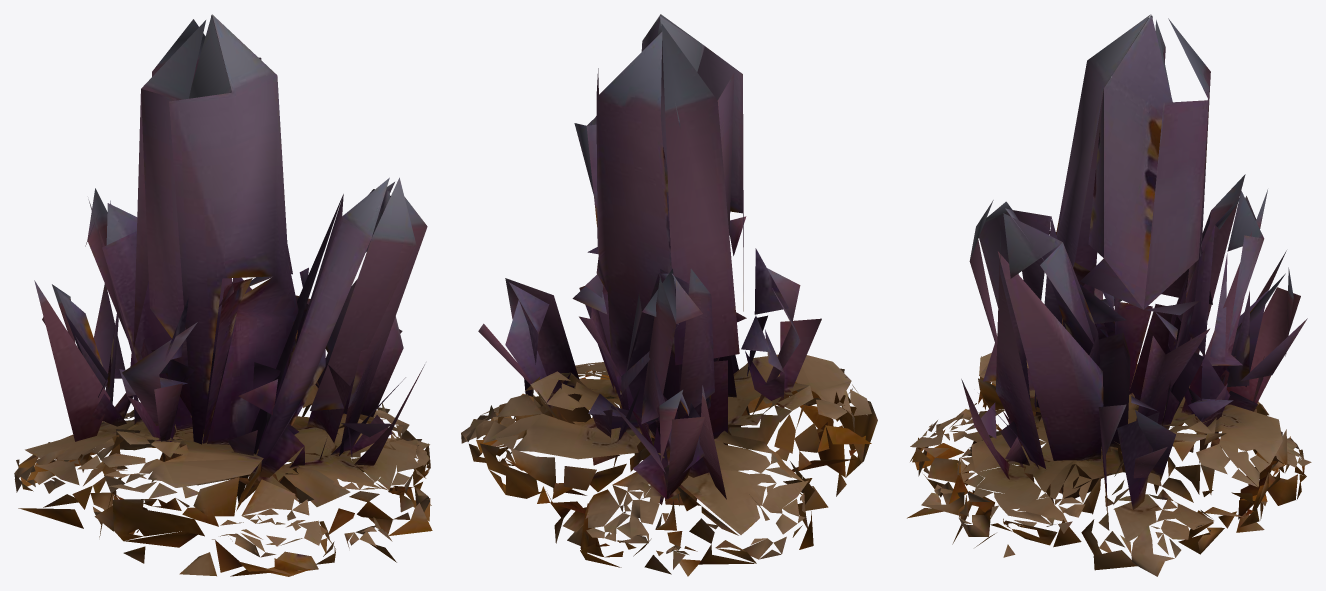
Rendered from cav_resonant_crystal_cluster_a_LOD3.glb.
3 views of the same model, side by side, from view 1: azimuth 30°, elevation 25°; view 2: azimuth 150°, elevation 25°; view 3: azimuth 270°, elevation 25° (orthographic).
Parts seen in each view (by area): view 1: tripo_node_47d5b845-be1a-4137-8bfe-d0635d554248; view 2: tripo_node_47d5b845-be1a-4137-8bfe-d0635d554248; view 3: tripo_node_47d5b845-be1a-4137-8bfe-d0635d554248.
Part boxes in pixels (x1,y1,x2,y2): tripo_node_47d5b845-be1a-4137-8bfe-d0635d554248: (14,14,432,576); tripo_node_47d5b845-be1a-4137-8bfe-d0635d554248: (461,14,877,576); tripo_node_47d5b845-be1a-4137-8bfe-d0635d554248: (907,14,1311,576).
Bounding box in the file's own units: 0.7856 × 1.01 × 0.756.
1 material, 1 textured.
